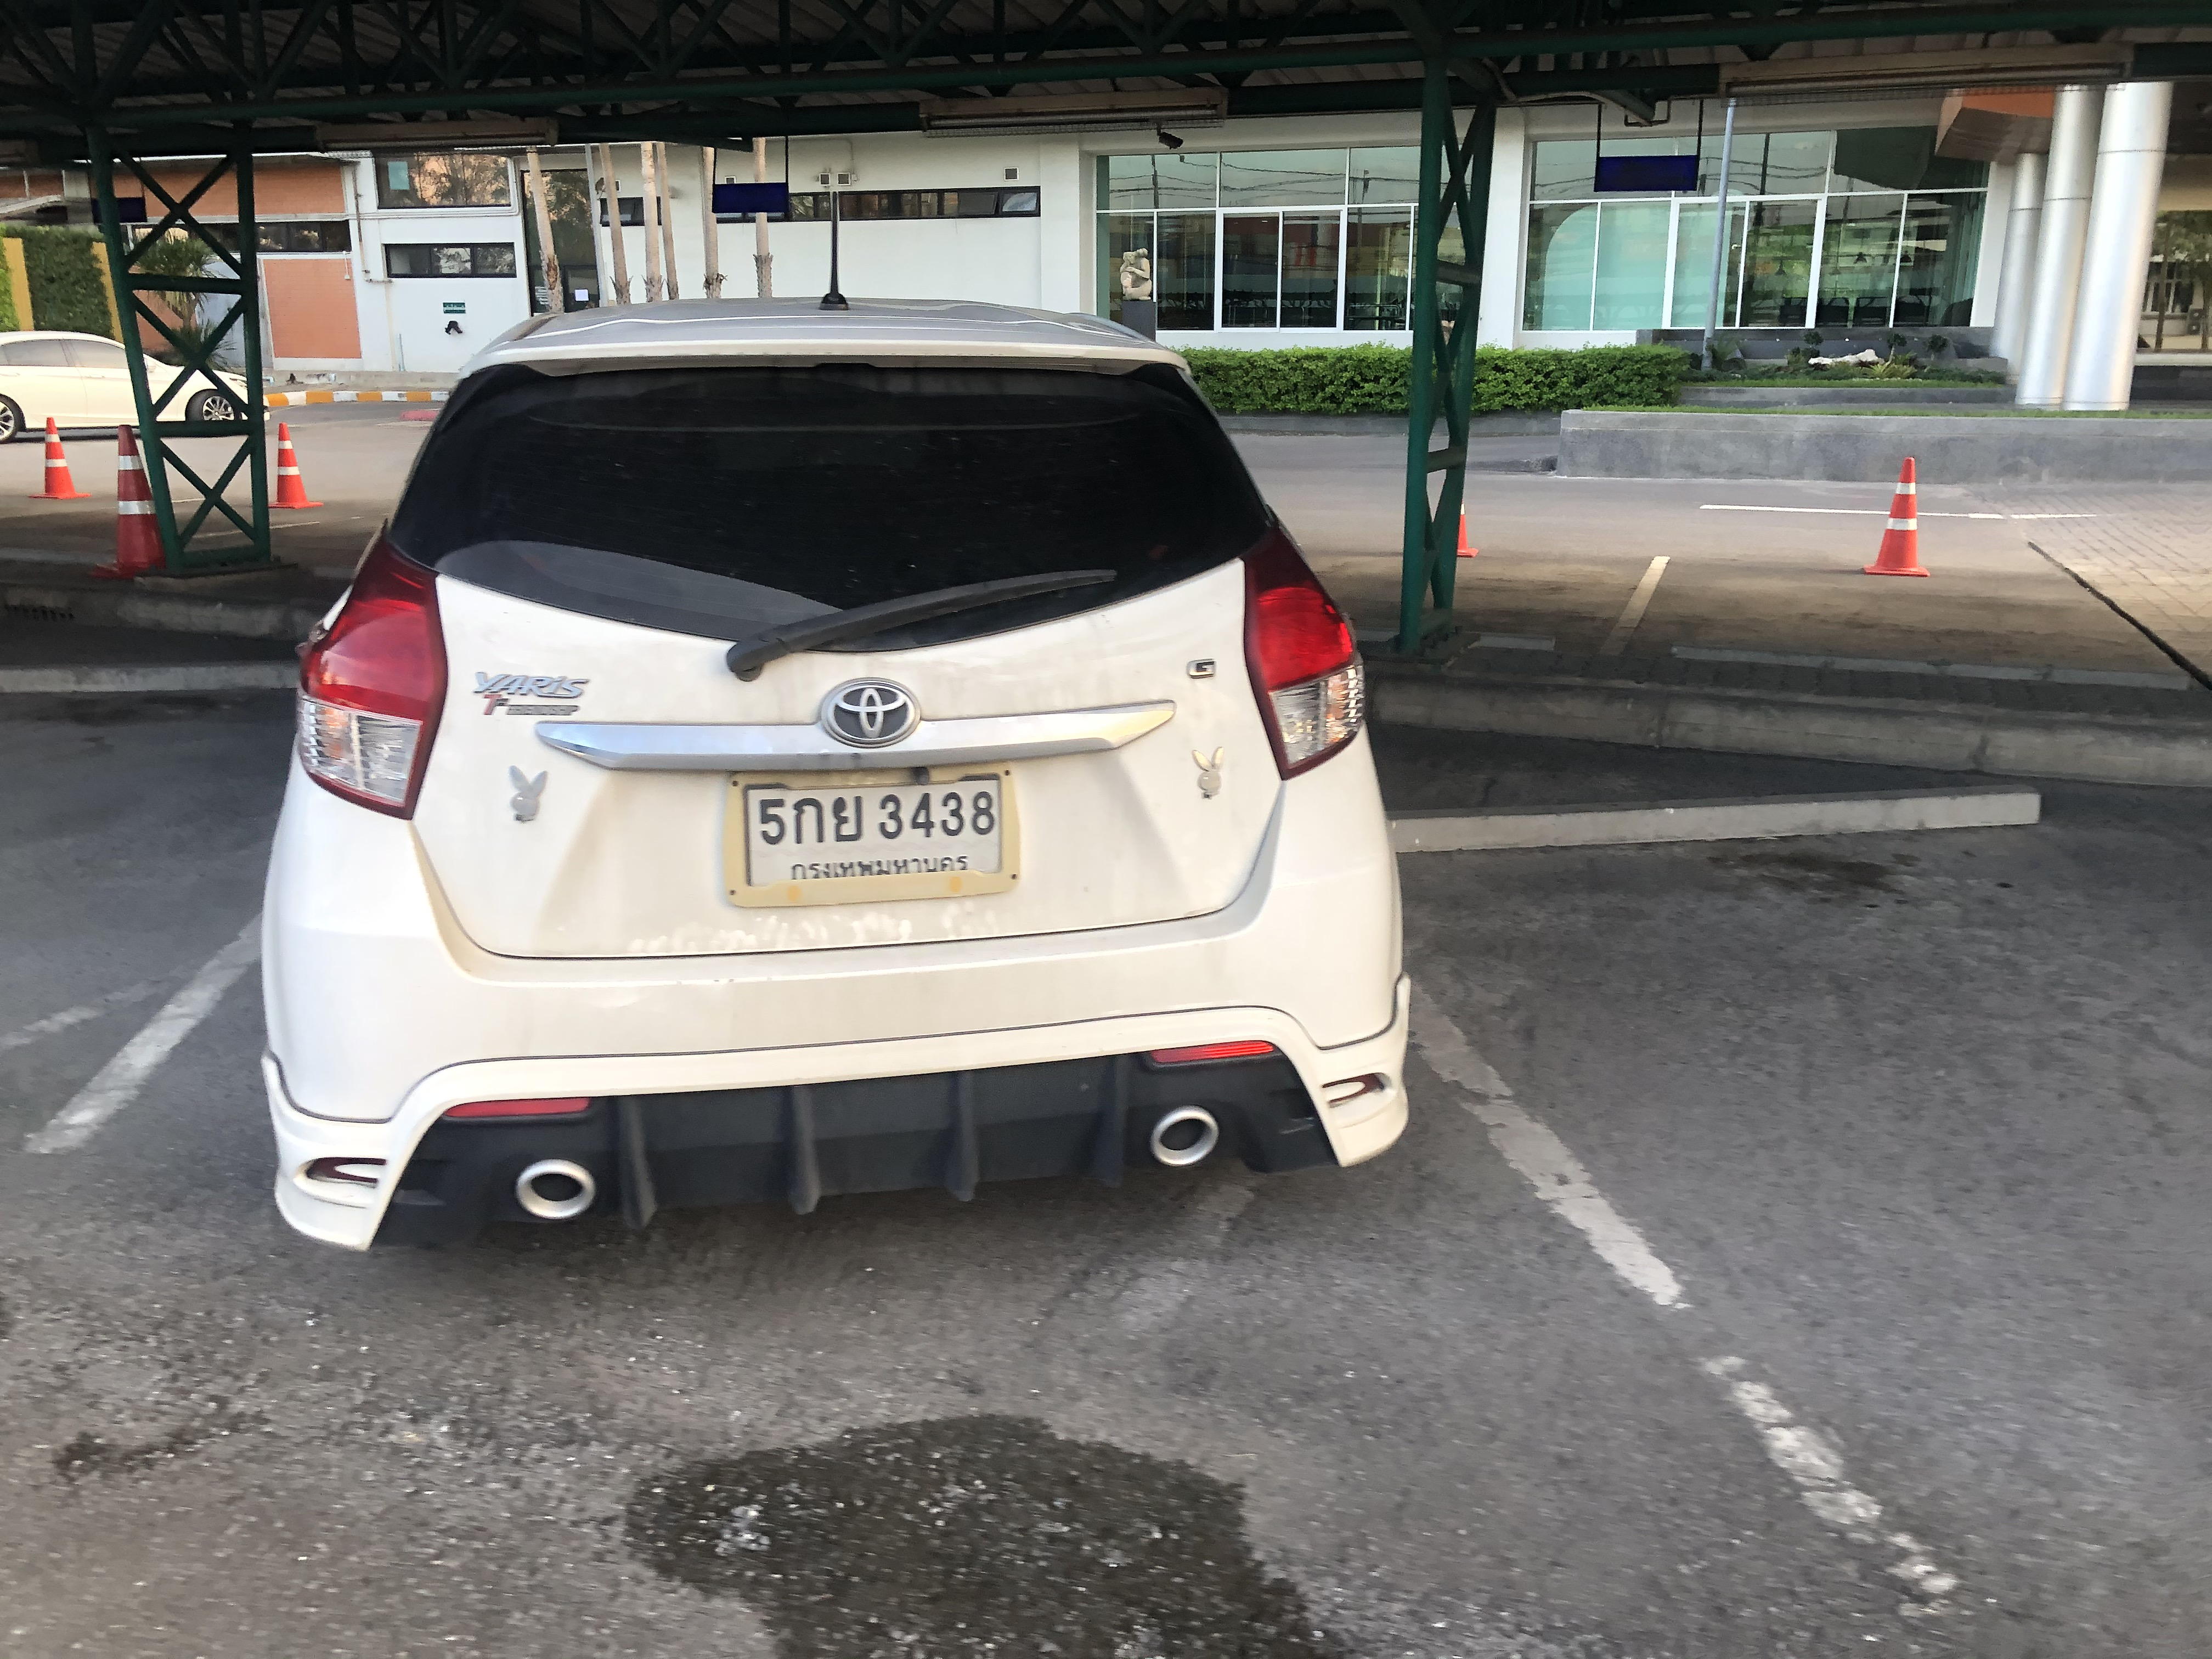in: (754, 784, 1001, 882)
out: (721, 767, 1029, 920)
